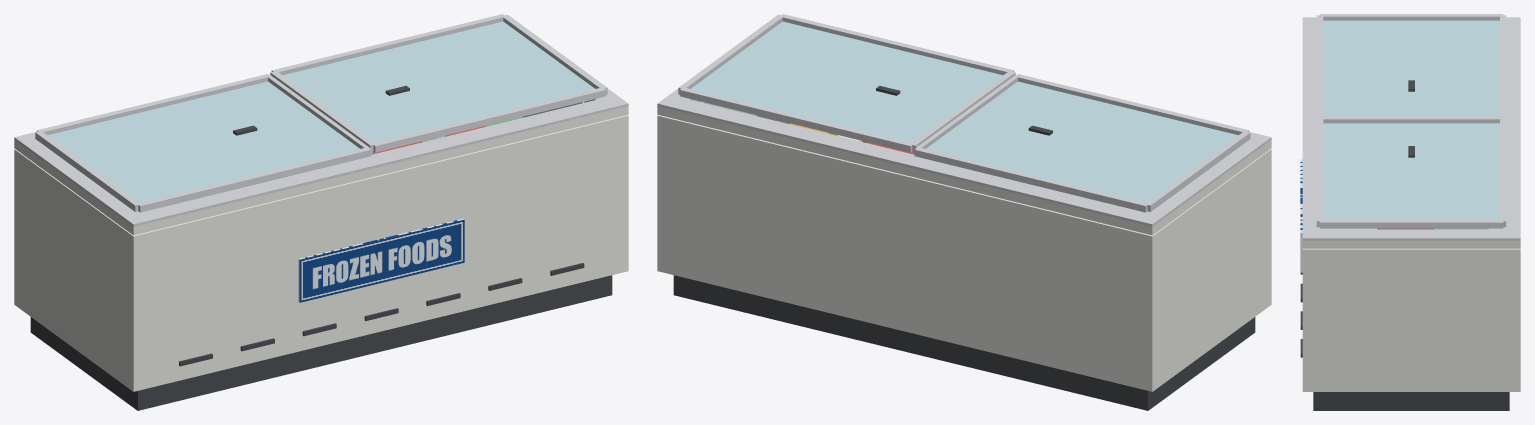
File: MKT_ChestFreezer.glb
The picture shows the model from 3 angles, left to right: view 1: azimuth 30°, elevation 25°; view 2: azimuth 150°, elevation 25°; view 3: azimuth 270°, elevation 25°; orthographic projection. The views are drawn at different scales.
Visible parts, largest first — view 1: ChestFreezer; view 2: ChestFreezer; view 3: ChestFreezer.
Part boxes in pixels (<box>): ChestFreezer: <box>14,14,628,410</box>; ChestFreezer: <box>657,14,1271,410</box>; ChestFreezer: <box>1300,14,1520,410</box>.
Bounding box in the file's own units: 2.4 × 0.953 × 1.01.
Materials: 16 (1 with a texture image).
